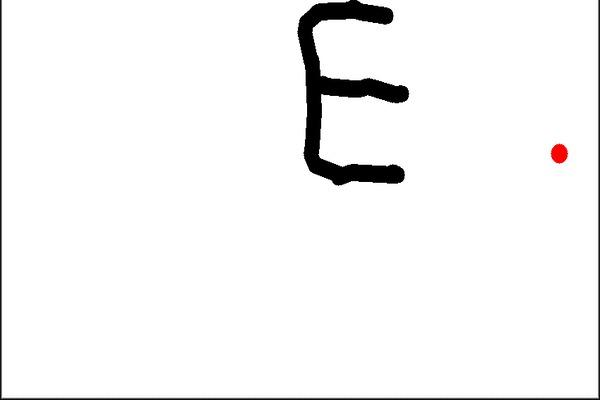E: (289, 0, 423, 192)
